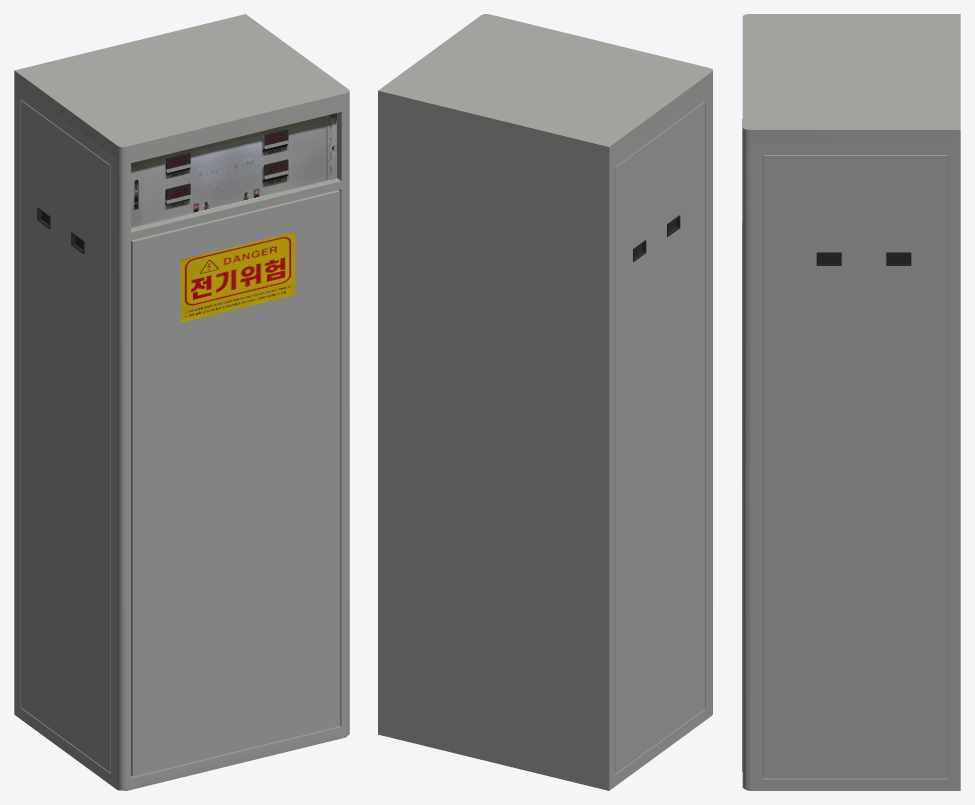
3 views of the same model, side by side, from view 1: azimuth 30°, elevation 25°; view 2: azimuth 150°, elevation 25°; view 3: azimuth 270°, elevation 25° (orthographic). The views are drawn at different scales.
Parts seen in each view (by area): view 1: 이중화분전반,직류,IPD[P]001; view 2: 이중화분전반,직류,IPD[P]001; view 3: 이중화분전반,직류,IPD[P]001.
Part boxes in pixels (box(x1,y1,x2,y2)): 이중화분전반,직류,IPD[P]001: box(14, 14, 349, 790); 이중화분전반,직류,IPD[P]001: box(378, 14, 712, 790); 이중화분전반,직류,IPD[P]001: box(742, 14, 960, 790).
Size of the model in its own units: 0.756 by 2 by 0.6.
Materials: 5 (2 with a texture image).
